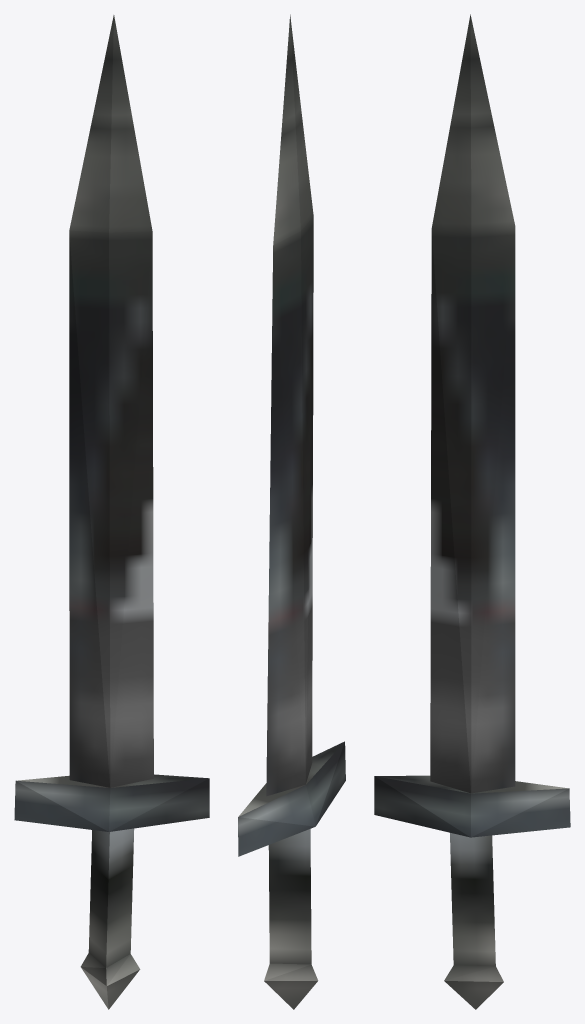
Rendered from arrow.FBX.
3 renders of one model, left to right at view 1: azimuth 90°, elevation 25°; view 2: azimuth 150°, elevation 25°; view 3: azimuth 270°, elevation 25°, orthographic.
Parts seen in each view (by area): view 1: arrow; view 2: arrow; view 3: arrow.
Boxes of the visible parts, left/top/right/bottom form: arrow: left=14, top=15, right=209, bottom=1009; arrow: left=238, top=14, right=345, bottom=1009; arrow: left=374, top=14, right=570, bottom=1009.
Bounding box in the file's own units: 10.65 × 174 × 30.97.
